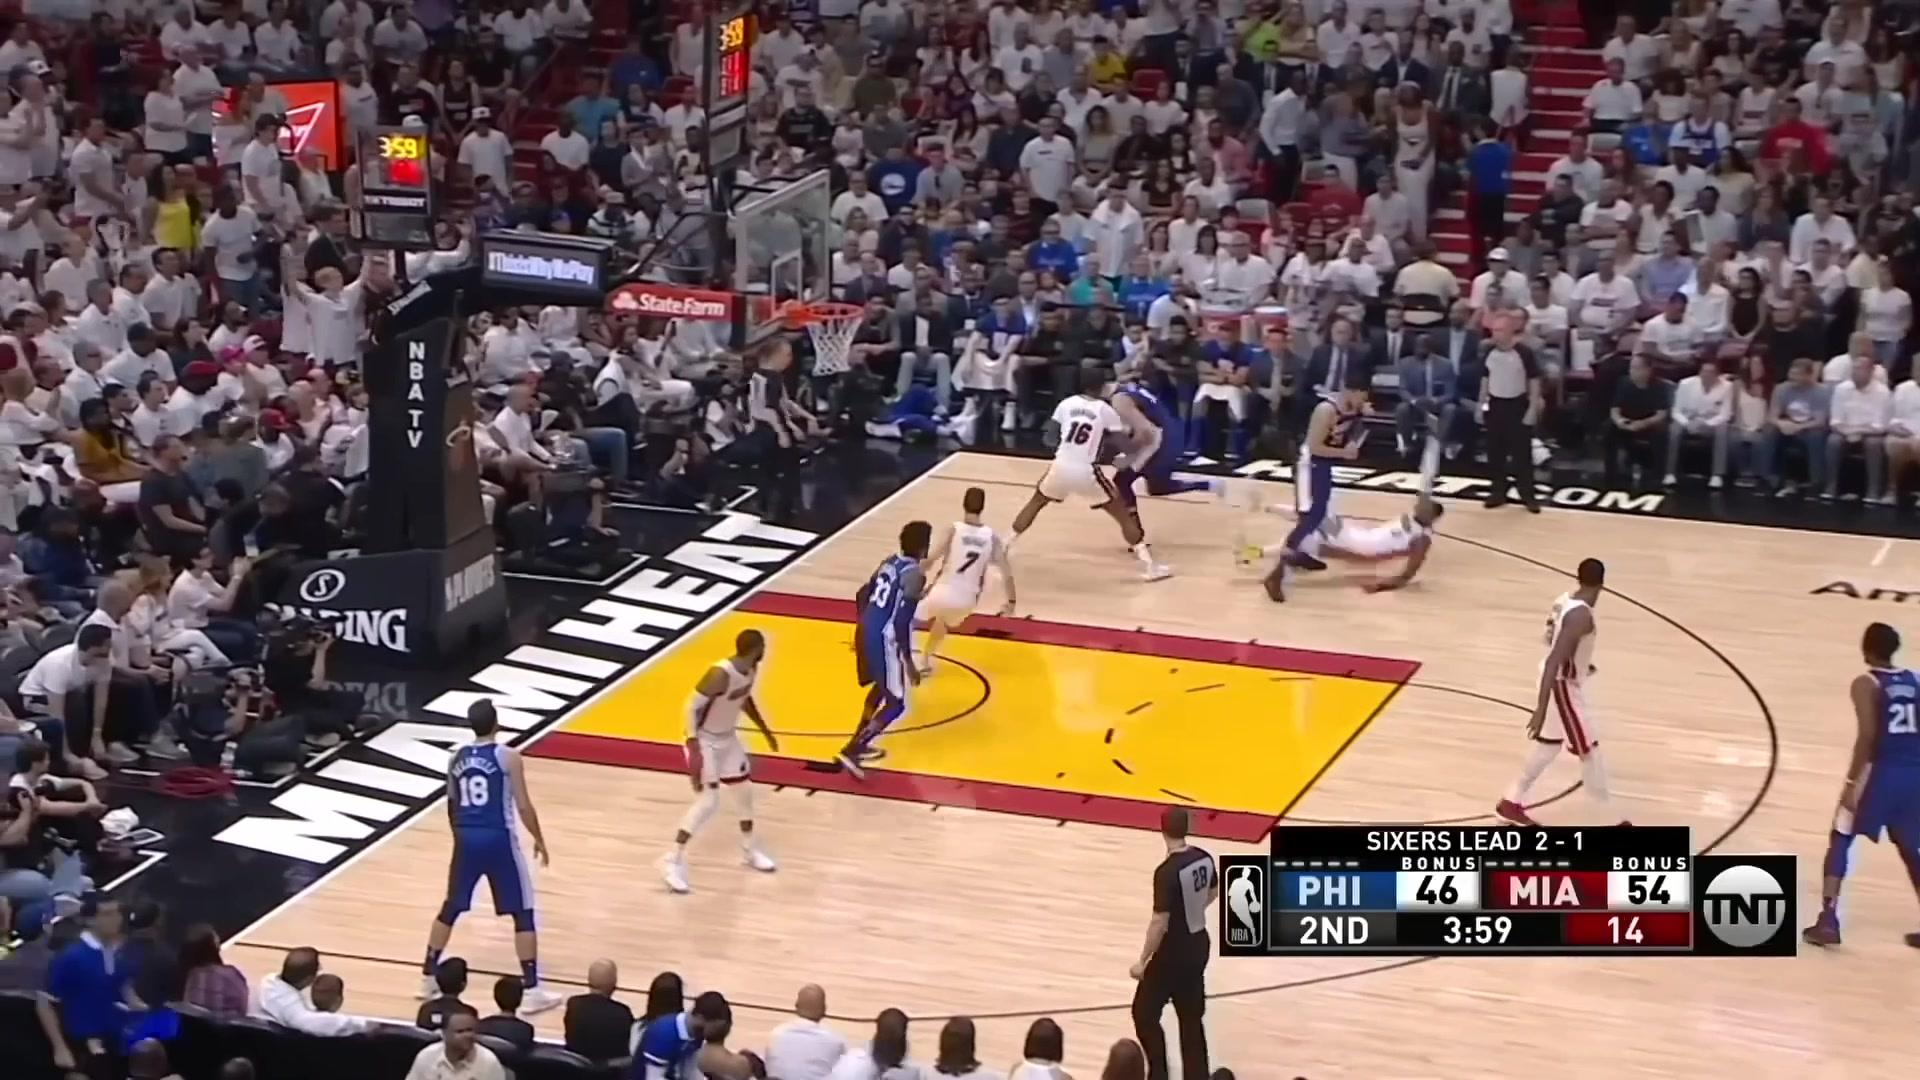foul: (1249, 368, 1451, 620)
